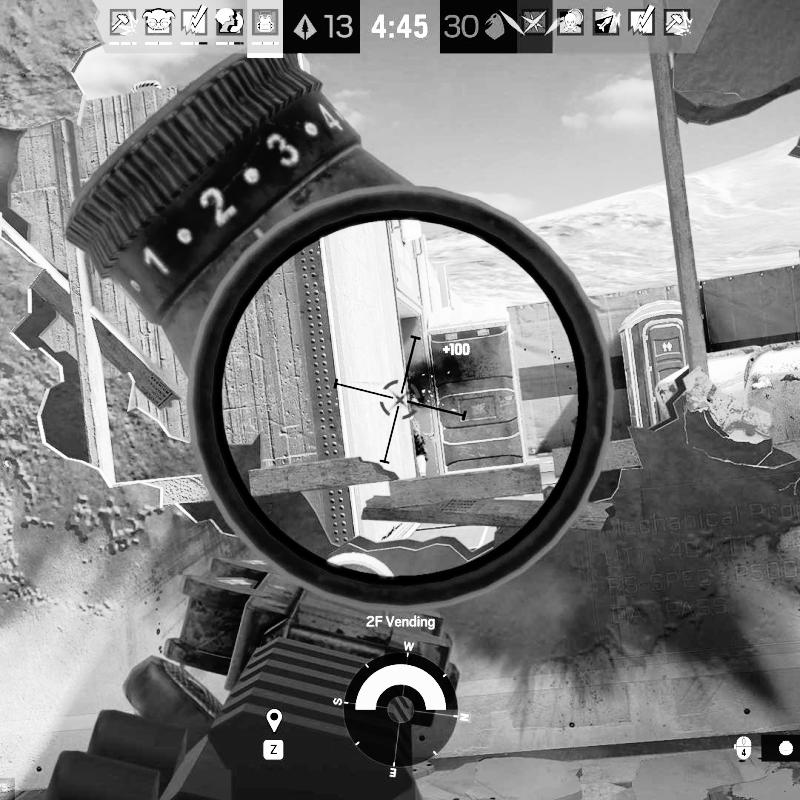Character: (410, 412, 430, 480)
